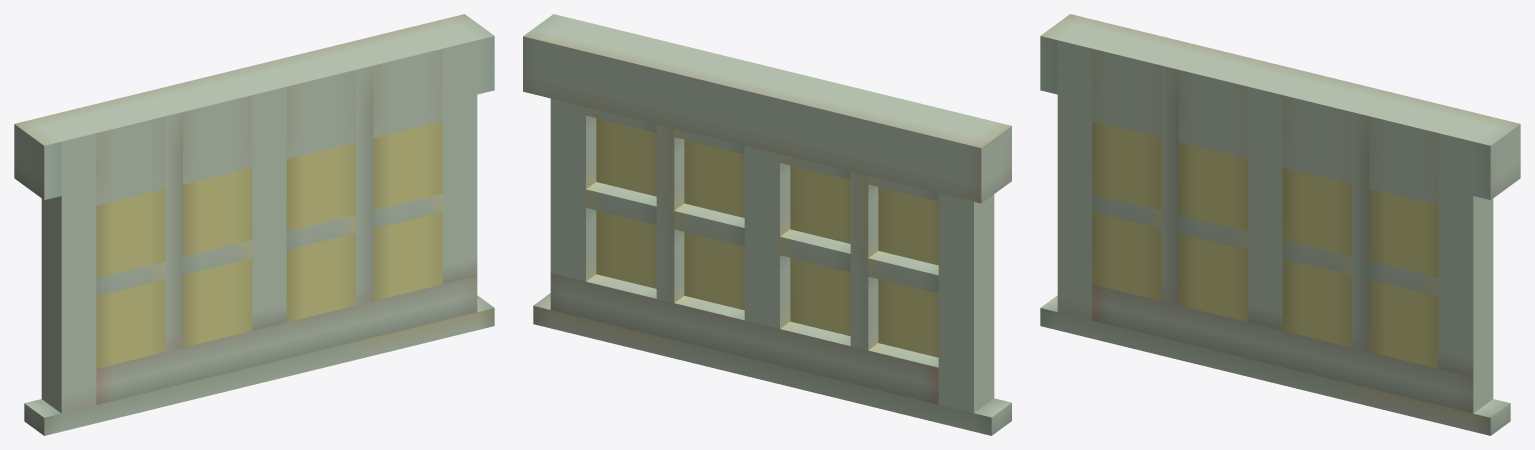
Rendered from WindowFrame4PaneOutside_A_00.obj.
3 renders of one model, left to right at view 1: azimuth 30°, elevation 25°; view 2: azimuth 150°, elevation 25°; view 3: azimuth 330°, elevation 25°, orthographic.
Parts seen in each view (by area): view 1: WindowFrame4PaneOutside_A_00; view 2: WindowFrame4PaneOutside_A_00; view 3: WindowFrame4PaneOutside_A_00.
Boxes of the visible parts, x1,y1,x2,y2 form: WindowFrame4PaneOutside_A_00: [14, 14, 494, 435]; WindowFrame4PaneOutside_A_00: [523, 14, 1011, 435]; WindowFrame4PaneOutside_A_00: [1040, 14, 1520, 435].
Size of the model in its own units: 1.3 by 0.8 by 0.15.
